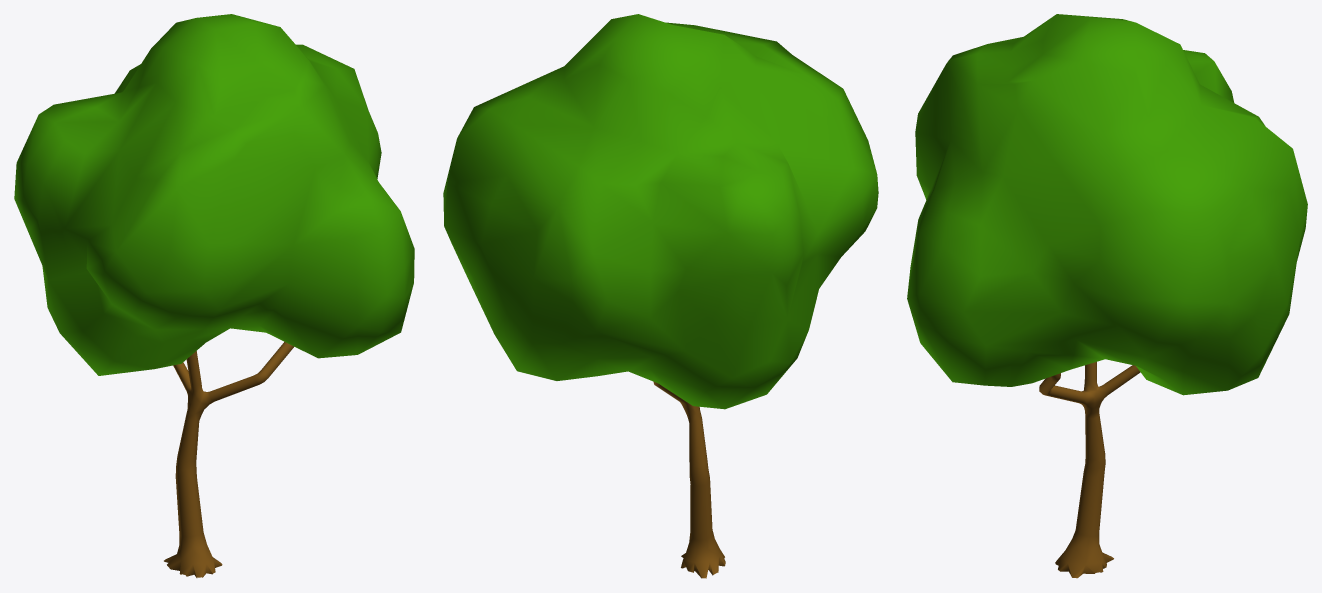
Rendered from tree.fbx.
3 views of the same model, side by side, from view 1: azimuth 30°, elevation 25°; view 2: azimuth 150°, elevation 25°; view 3: azimuth 270°, elevation 25° (orthographic). The views are drawn at different scales.
Parts seen in each view (by area): view 1: tree; view 2: tree; view 3: tree.
Boxes of the visible parts, <box> form: tree: <box>14,14,414,577</box>; tree: <box>443,14,878,578</box>; tree: <box>907,14,1307,578</box>.
Size of the model in its own units: 479 by 711 by 459.
